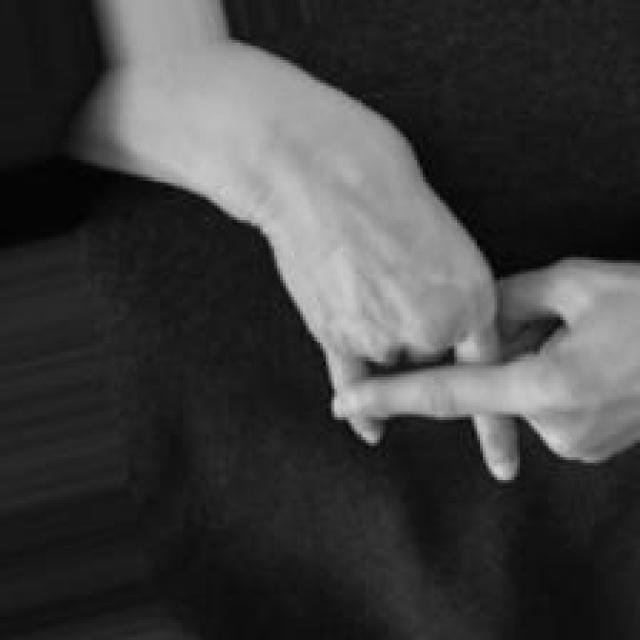H: (227, 96, 640, 487)
